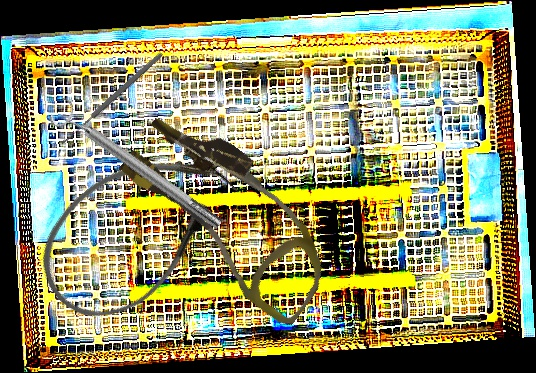Cannula: (100, 98, 358, 331), (16, 116, 255, 342)
Fixation Ring: (46, 94, 229, 240)
Surgical Spoon: (59, 51, 165, 146)
